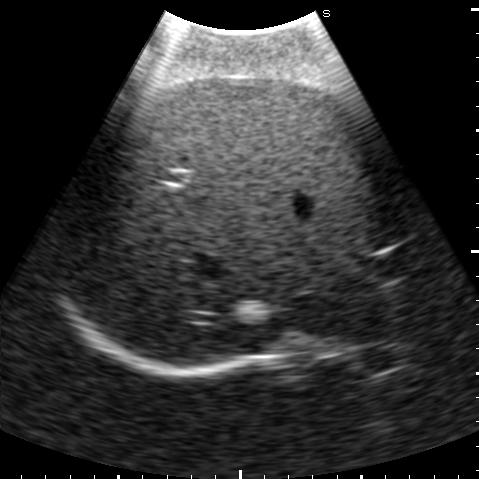S5: (135, 79, 362, 184)
S7: (60, 160, 181, 315)
S8: (125, 172, 389, 365)
Tumor: (232, 299, 269, 323)
